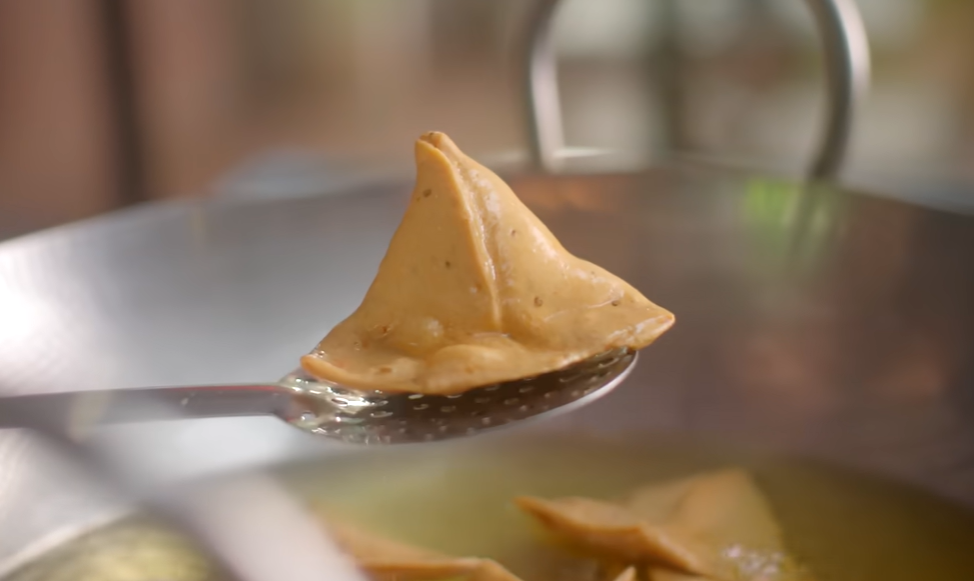samosa: (291, 120, 673, 396)
